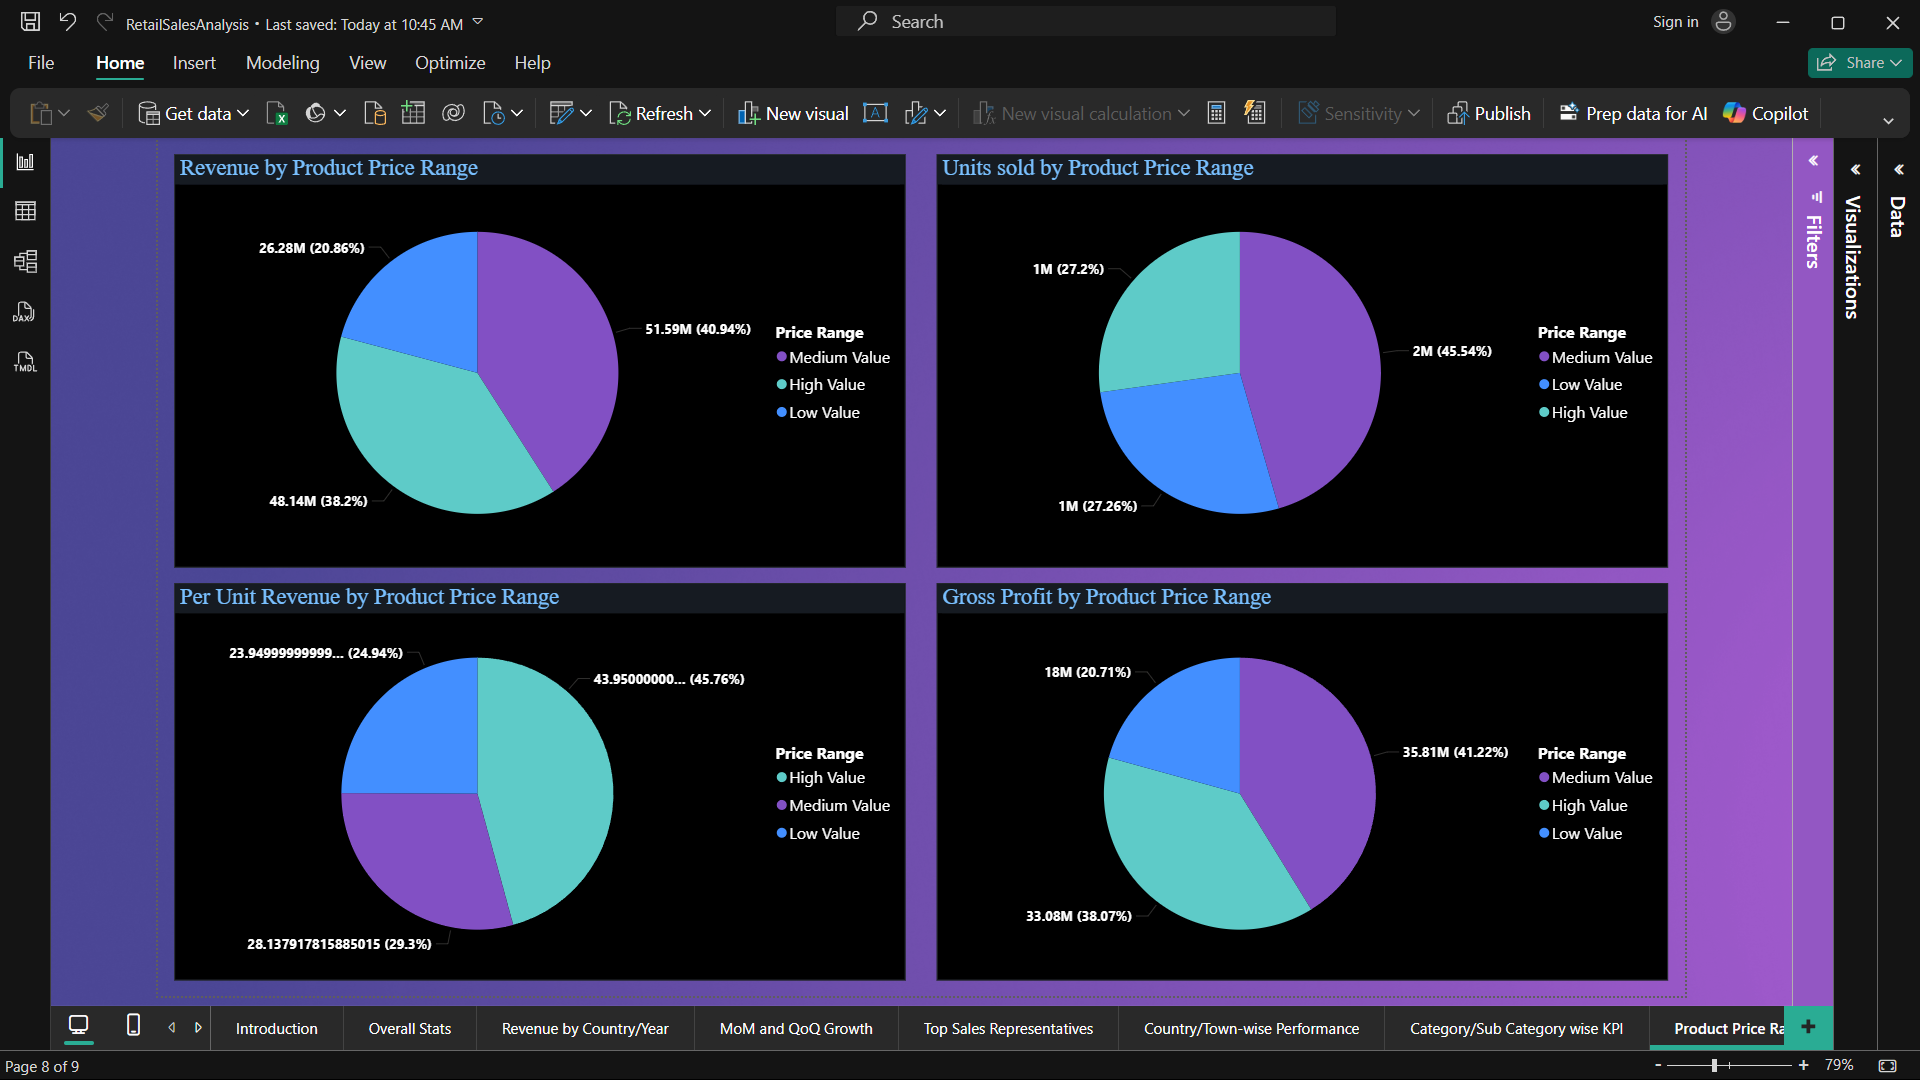

The dashboard page shown, as its layout file describes it:
{"tool":"powerbi","page":{"name":"Product Price Range - wise KPIs","canvas":[1536,864],"ordinal":7},"visuals":[{"type":"pieChart","title":"Revenue by Product Price Range","fields":{"Y":["Sum(FactSales.Total Revenue)"],"Category":["DimProducts.Price Range"]},"box":[16,16,736,416],"z":0},{"type":"pieChart","title":"Units sold by Product Price Range","fields":{"Y":["Sum(FactSales.Units)"],"Category":["DimProducts.Price Range"]},"box":[784,16,736,416],"z":1000},{"type":"pieChart","title":"Per Unit Revenue by Product Price Range","fields":{"Y":["FactSales.Revenue per Unit"],"Category":["DimProducts.Price Range"]},"box":[16,448,736,400],"z":2000},{"type":"pieChart","title":"Gross Profit by Product Price Range","fields":{"Y":["FactSales.Total Gross Profit"],"Category":["DimProducts.Price Range"]},"box":[784,448,736,400],"z":3000}]}

Visuals, with their boxes on the page's 1536x864 design canvas (x1, y1, x2, y2). These are canvas units, not pixel positions in the 1920x1080 screenshot, which may show the page scaled, cropped or inside an application window:
"Revenue by Product Price Range" pieChart: box(16, 16, 752, 432)
"Units sold by Product Price Range" pieChart: box(784, 16, 1520, 432)
"Per Unit Revenue by Product Price Range" pieChart: box(16, 448, 752, 848)
"Gross Profit by Product Price Range" pieChart: box(784, 448, 1520, 848)
